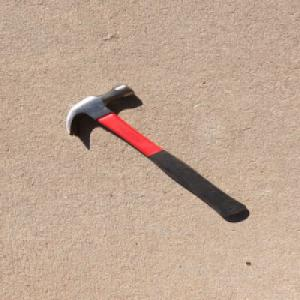Hammer: (63, 81, 247, 219)
